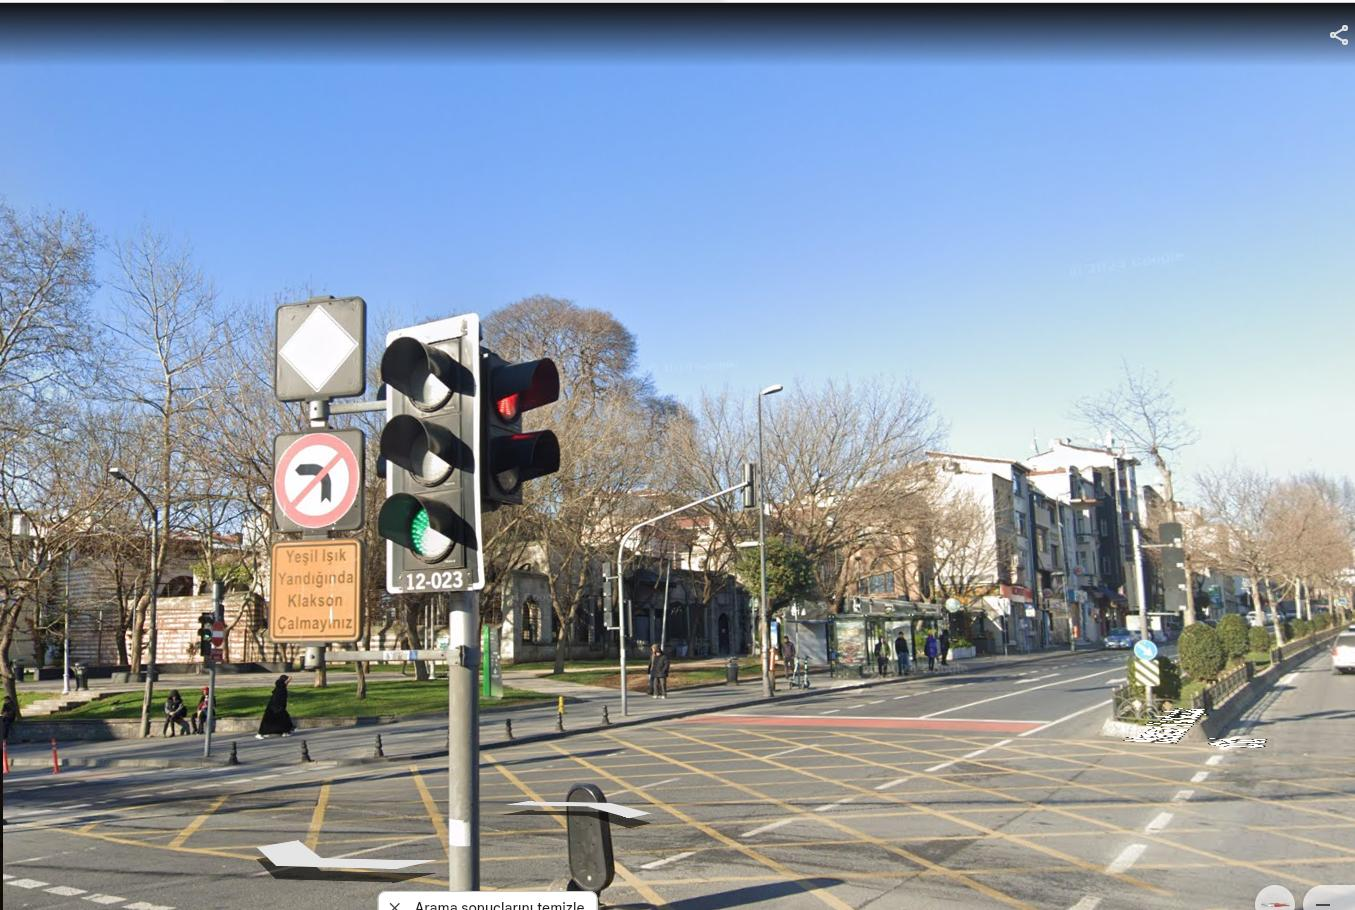greenlight: (385, 326, 469, 569)
